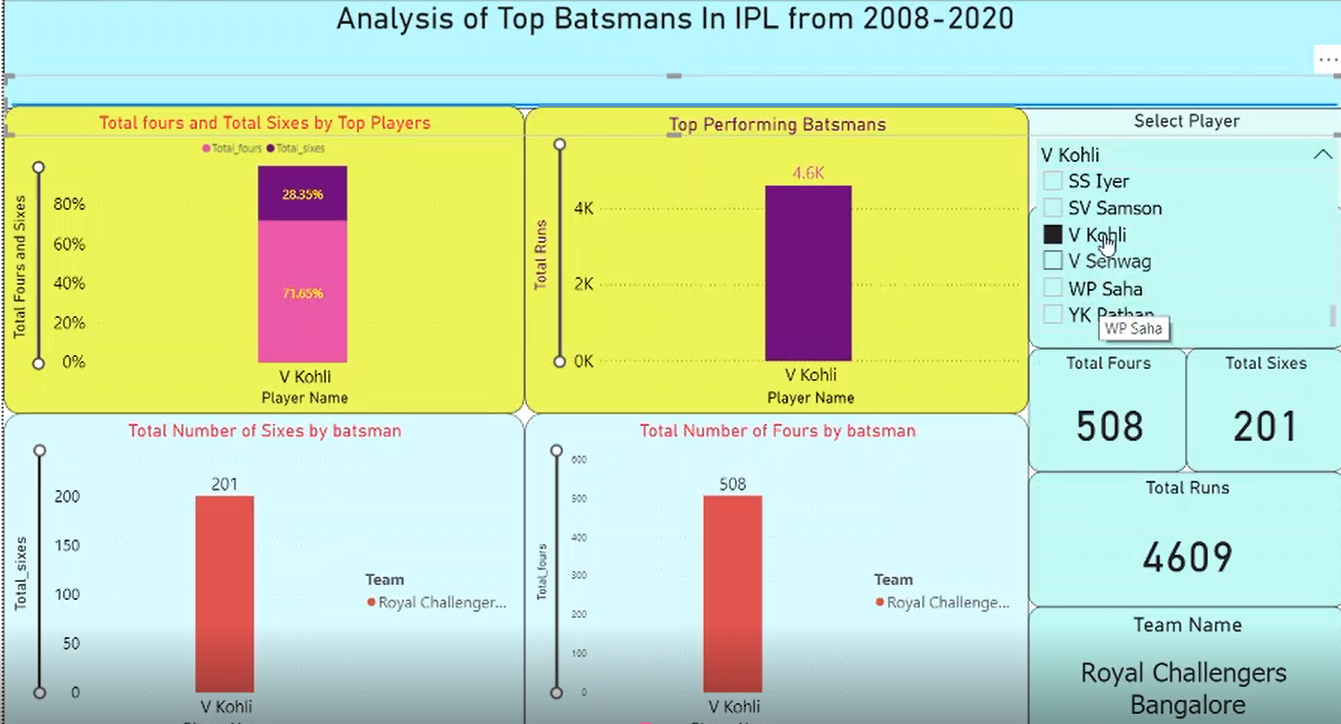

The page's visual inventory and layout, read from the dashboard file:
{"tool":"powerbi","page":{"name":"Page 1","canvas":[1700,941],"ordinal":0},"visuals":[{"type":"textbox","box":[10,0,280,280],"z":0},{"type":"textbox","box":[9.6,177.2,280.2,89.3],"z":1000},{"type":"textbox","title":"Analysis of Top Batsmans In IPL from 2008-2020","box":[0,5.5,1700,138.6],"z":2000},{"type":"lineStackedColumnComboChart","title":"Top Performing Batsmans","fields":{"Y":["Top5batsmanperteam.Total_runs"],"Category":["Top5batsmanperteam.Player_name"]},"box":[660.3,140.5,638.4,388.5],"z":3000},{"type":"columnChart","title":"Total Number of Fours by batsman","fields":{"Category":["Top5batsmanperteam.Player_name"],"Series":["Top5batsmanperteam.Team"],"Y":["Top5batsmanperteam.Total_fours"]},"box":[660.3,529,638.4,421.4],"z":4000},{"type":"hundredPercentStackedColumnChart","title":"Total fours and Total Sixes by Top Players","fields":{"Y":["Top5batsmanperteam.Total_fours","Top5batsmanperteam.Total_sixes"],"Category":["Top5batsmanperteam.Player_name"]},"box":[0,138.6,660.3,390.3],"z":5000},{"type":"columnChart","title":"Total Number of Sixes by batsman","fields":{"Category":["Top5batsmanperteam.Player_name"],"Series":["Top5batsmanperteam.Team"],"Y":["Top5batsmanperteam.Total_sixes"]},"box":[0,529,660.3,421.4],"z":6000},{"type":"slicer","title":"Select Player","fields":{"Values":["Top5batsmanperteam.Player_name"]},"box":[1298.7,144.1,401.3,122.2],"z":6001},{"type":"card","title":"Player Name","fields":{"Values":["Top5batsmanperteam.Player_name"]},"box":[1298.7,266.3,401.3,180.6],"z":6002},{"type":"card","title":"Total Fours","fields":{"Values":["Top5batsmanperteam.Total_fours"]},"box":[1298.7,446.9,200.6,156.9],"z":6003},{"type":"card","title":"Total Sixes","fields":{"Values":["Top5batsmanperteam.Total_sixes"]},"box":[1499.4,446.9,200.6,156.9],"z":6004},{"type":"card","title":"Team Name","fields":{"Values":["Top5batsmanperteam.Team"]},"box":[1298.7,775.2,401.3,166],"z":6005},{"type":"card","title":"Total Runs","fields":{"Values":["Top5batsmanperteam.Total_runs"]},"box":[1298.7,603.8,401.3,171.5],"z":6006},{"type":"basicShape","box":[0,100.3,1700,76.6],"z":6007}]}

Visuals, with their boxes in screenshot pixels (x1, y1, x2, y2):
textbox: [left=43, top=0, right=263, bottom=213]
textbox: [left=42, top=132, right=263, bottom=202]
"Analysis of Top Batsmans In IPL from 2008-2020" textbox: [left=35, top=0, right=1340, bottom=106]
"Top Performing Batsmans" lineStackedColumnComboChart: [left=554, top=103, right=1055, bottom=409]
"Total Number of Fours by batsman" columnChart: [left=554, top=409, right=1055, bottom=723]
"Total fours and Total Sixes by Top Players" hundredPercentStackedColumnChart: [left=35, top=102, right=554, bottom=408]
"Total Number of Sixes by batsman" columnChart: [left=35, top=409, right=554, bottom=723]
"Select Player" slicer: [left=1055, top=106, right=1340, bottom=202]
"Player Name" card: [left=1055, top=202, right=1340, bottom=344]
"Total Fours" card: [left=1055, top=344, right=1213, bottom=467]
"Total Sixes" card: [left=1213, top=344, right=1340, bottom=467]
"Team Name" card: [left=1055, top=602, right=1340, bottom=723]
"Total Runs" card: [left=1055, top=467, right=1340, bottom=602]
basicShape: [left=35, top=72, right=1340, bottom=132]
